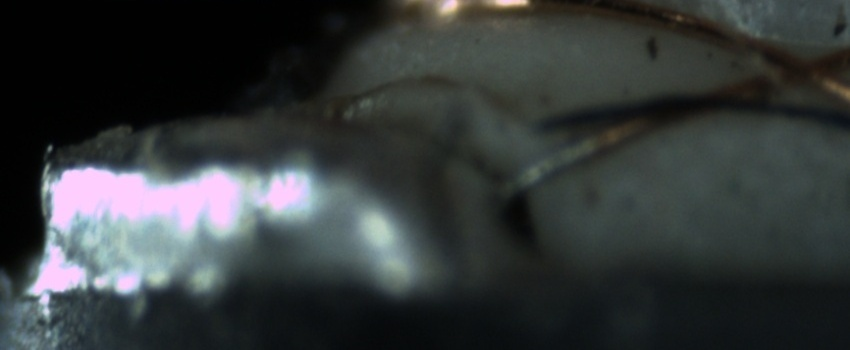TS: (496, 140, 596, 201)
